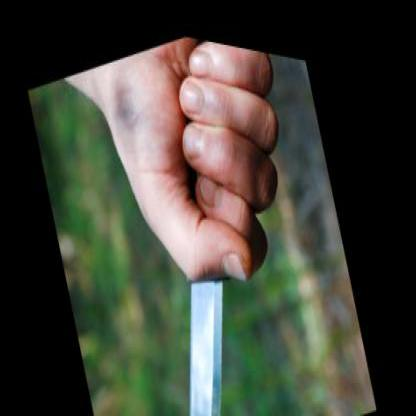knife: (84, 13, 353, 412)
